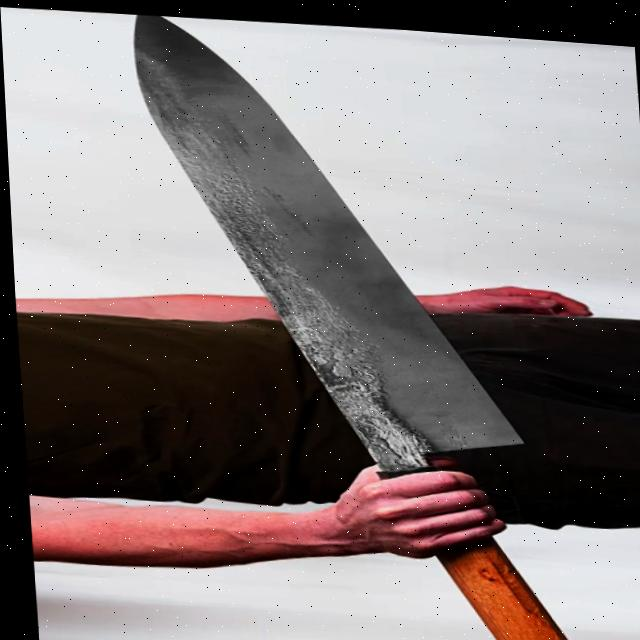knife: (128, 7, 573, 640)
